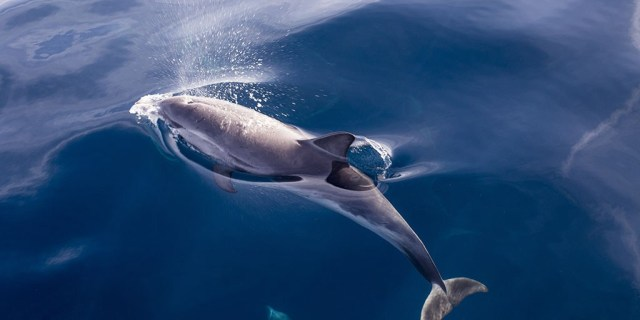fish: (154, 91, 486, 320)
